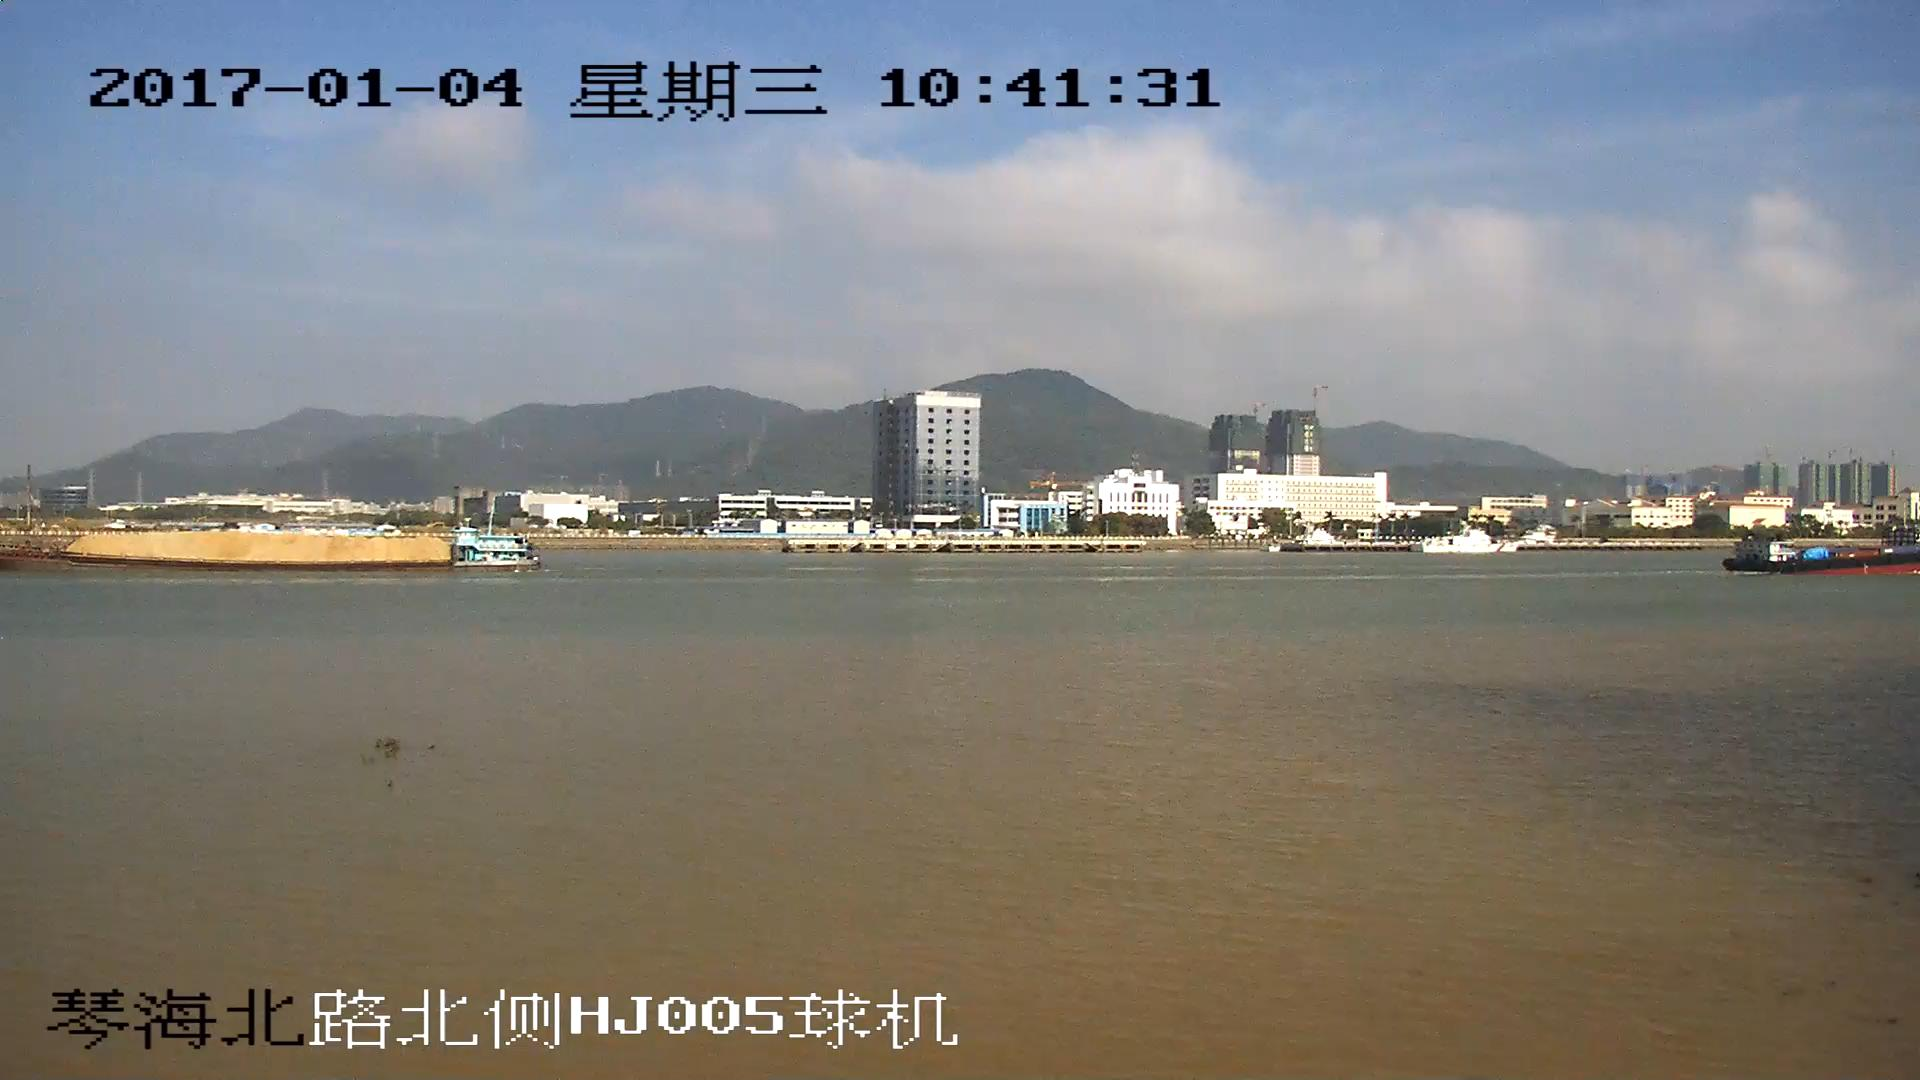container ship: (1732, 537, 1920, 574)
ore carrier: (1, 529, 545, 571)
